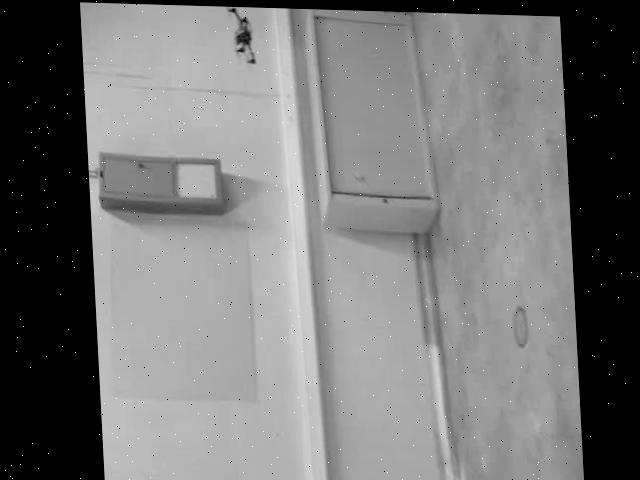drone: (221, 5, 256, 63)
